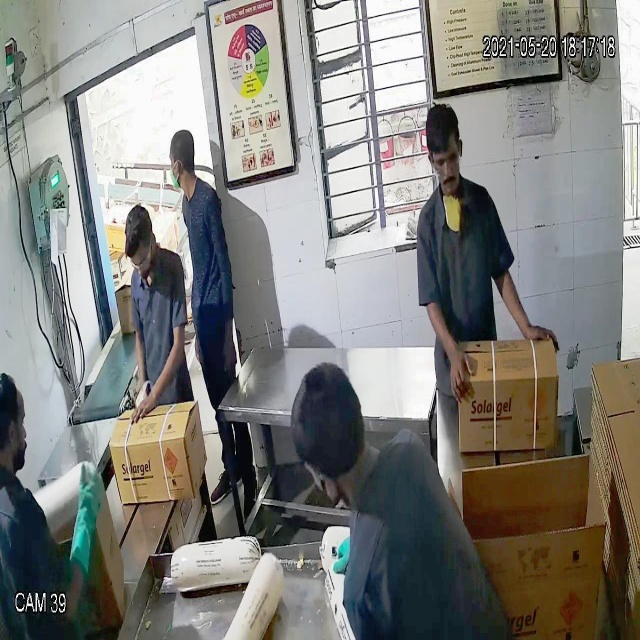Gafas: (123, 247, 155, 276)
Sin_gafas: (425, 146, 468, 174)
